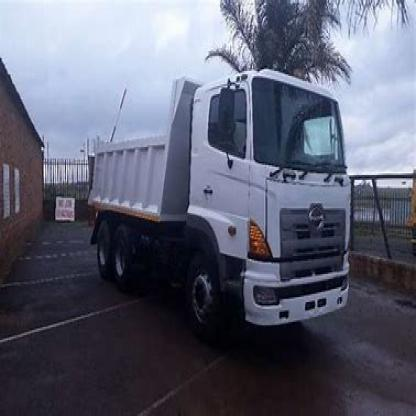dump_truck: (79, 68, 360, 345)
